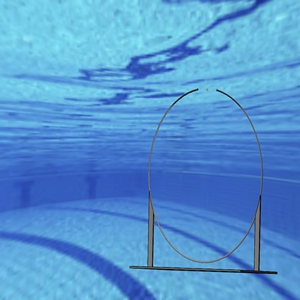circle: (130, 86, 277, 275)
